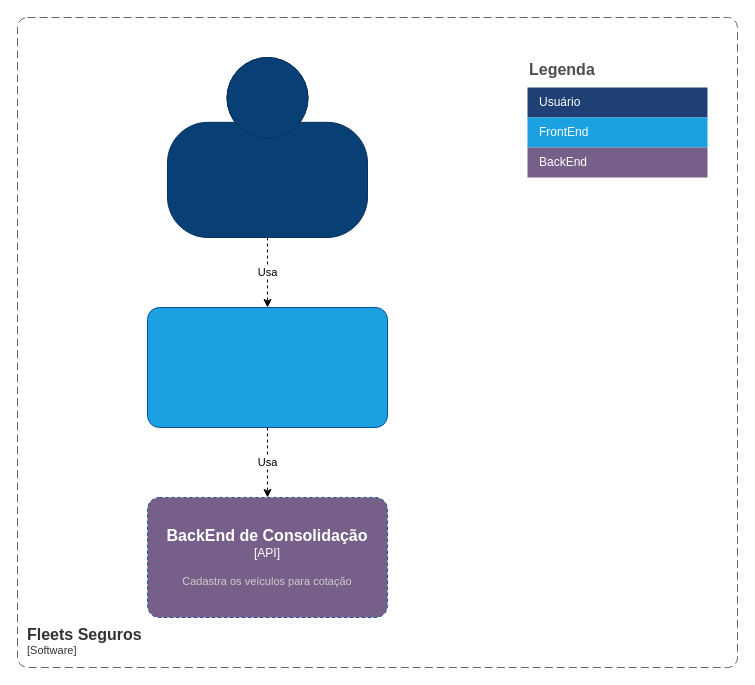
This 755x685 diagram has some shape labels left out. Each missing label, with the centre of its shape:
"Corretor [Usuário] Responsável por cadastramento do veiculo" goes at (267,147).
"FrontEnd de Consolidação [Sistema WEB] Realiza a cotação do veiculo" goes at (267,367).
